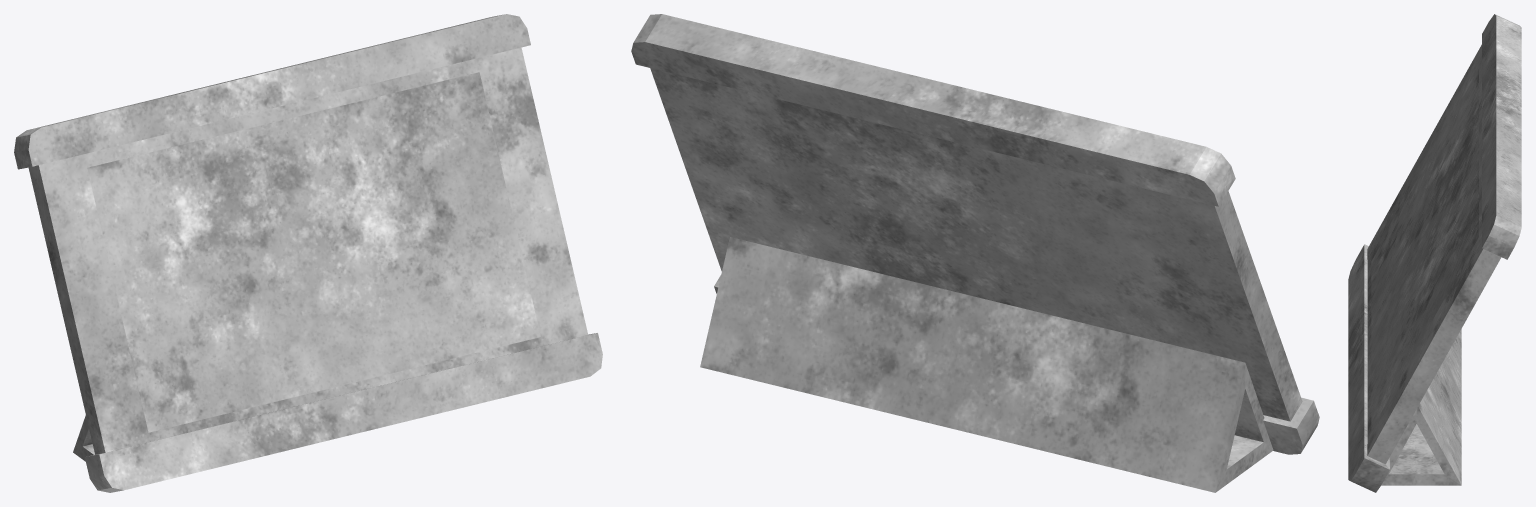
The model's file is Tablet.glb.
3 views of the same model, side by side, from view 1: azimuth 30°, elevation 25°; view 2: azimuth 150°, elevation 25°; view 3: azimuth 270°, elevation 25° (orthographic). The views are drawn at different scales.
Parts seen in each view (by area): view 1: Tablet; view 2: Tablet; view 3: Tablet.
Boxes of the visible parts, left/top/right/bottom form: Tablet: left=14, top=14, right=602, bottom=492; Tablet: left=631, top=14, right=1319, bottom=492; Tablet: left=1348, top=14, right=1521, bottom=492.
Size of the model in its own units: 0.2775 by 0.1671 by 0.0951.
3 materials, 3 textured.
